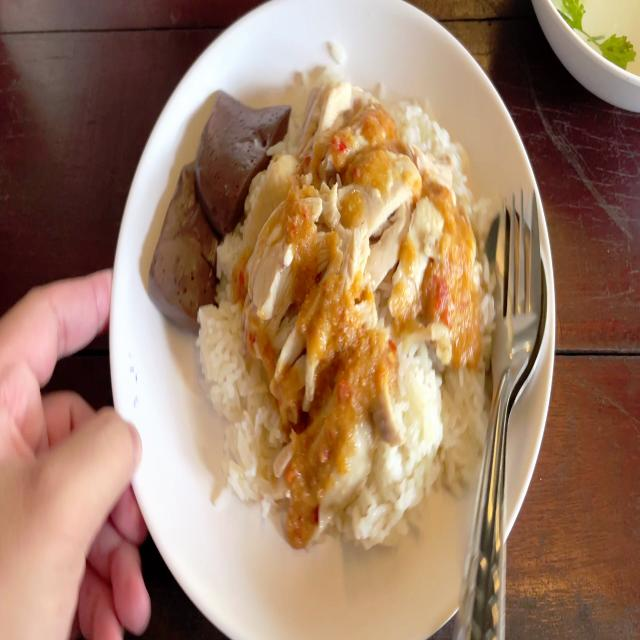boiled_chicken: (235, 75, 460, 526)
boiled_chicken_blood_jelly: (148, 148, 207, 326), (196, 92, 272, 222)
chicken_rice: (139, 44, 506, 570)
